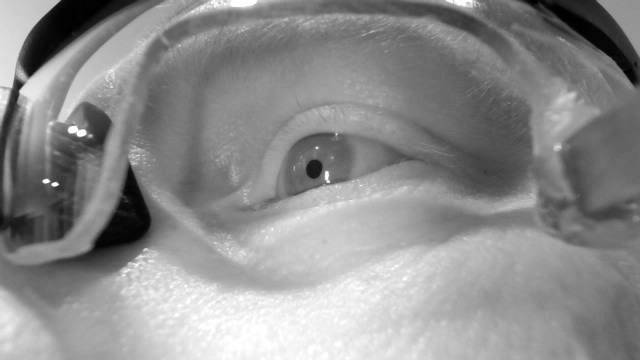pupil: (305, 159, 324, 180)
